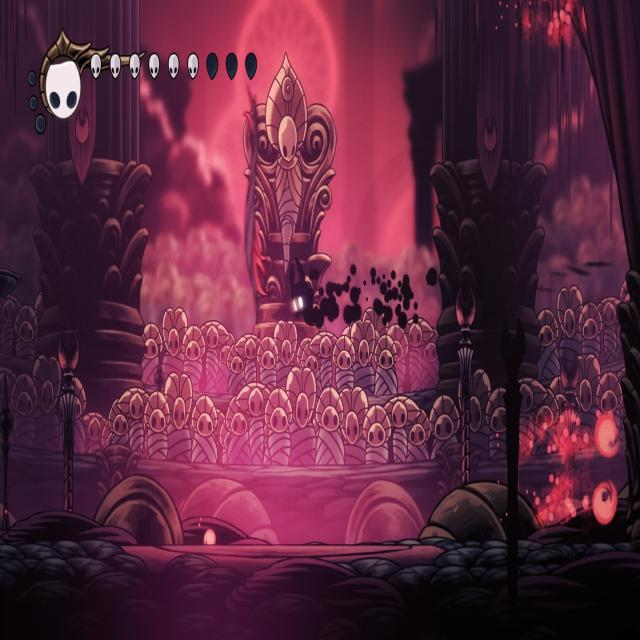Player: (288, 254, 320, 331)
